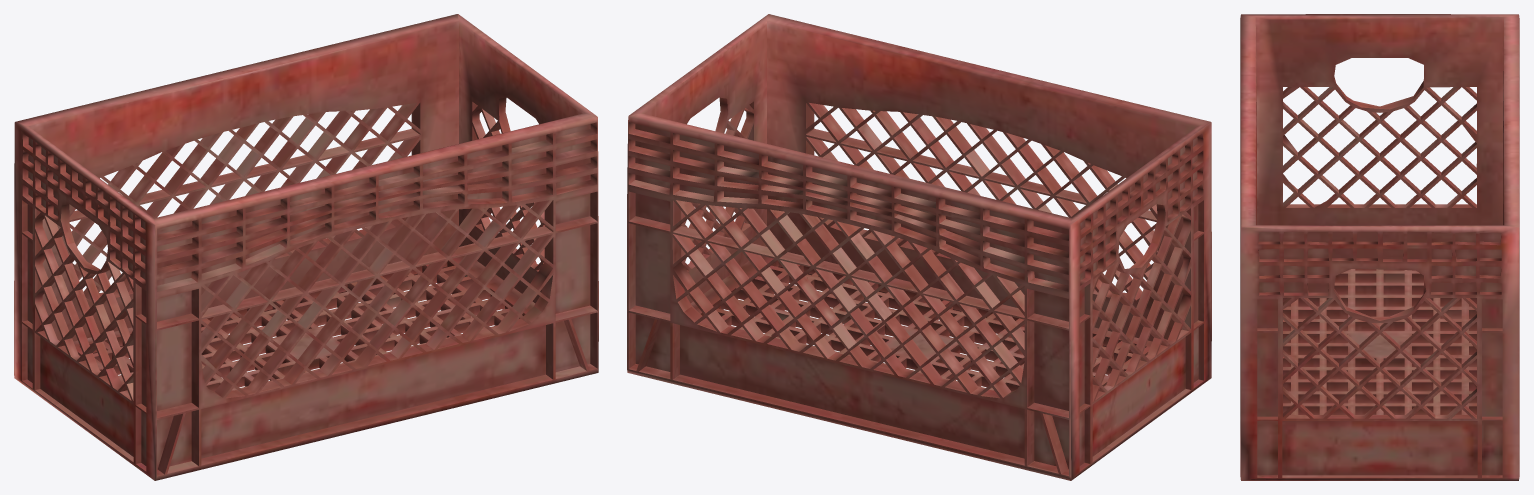
Rendered from plasticCrate.glb.
The picture shows the model from 3 angles, left to right: view 1: azimuth 30°, elevation 25°; view 2: azimuth 150°, elevation 25°; view 3: azimuth 270°, elevation 25°; orthographic projection.
Parts seen in each view (by area): view 1: plastic_crate_03; view 2: plastic_crate_03; view 3: plastic_crate_03.
Boxes of the visible parts, bbox=[...] form: plastic_crate_03: bbox=[14, 14, 598, 480]; plastic_crate_03: bbox=[627, 14, 1211, 480]; plastic_crate_03: bbox=[1240, 14, 1519, 480].
Bounding box in the file's own units: 0.4811 × 0.2652 × 0.265.
1 material, 1 textured.
